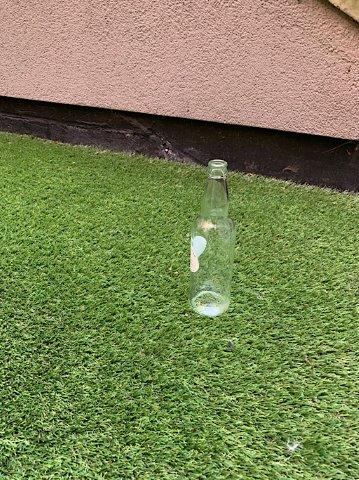botolkaca: (190, 160, 234, 315)
